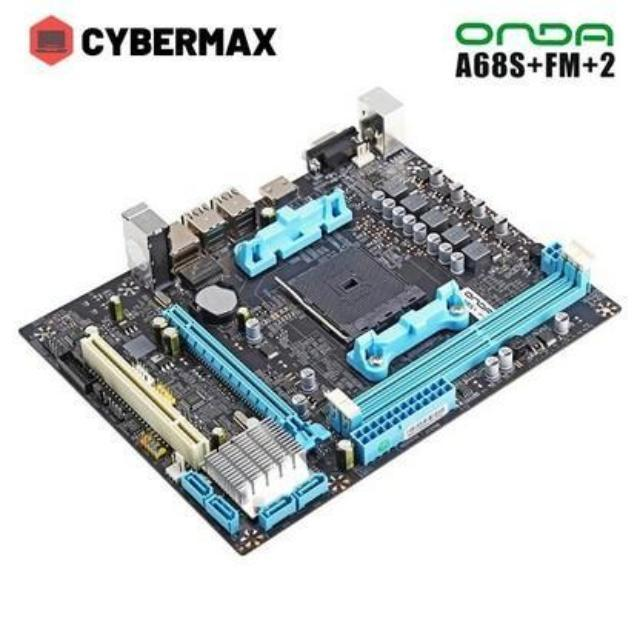Mainboard: (16, 106, 616, 542)
